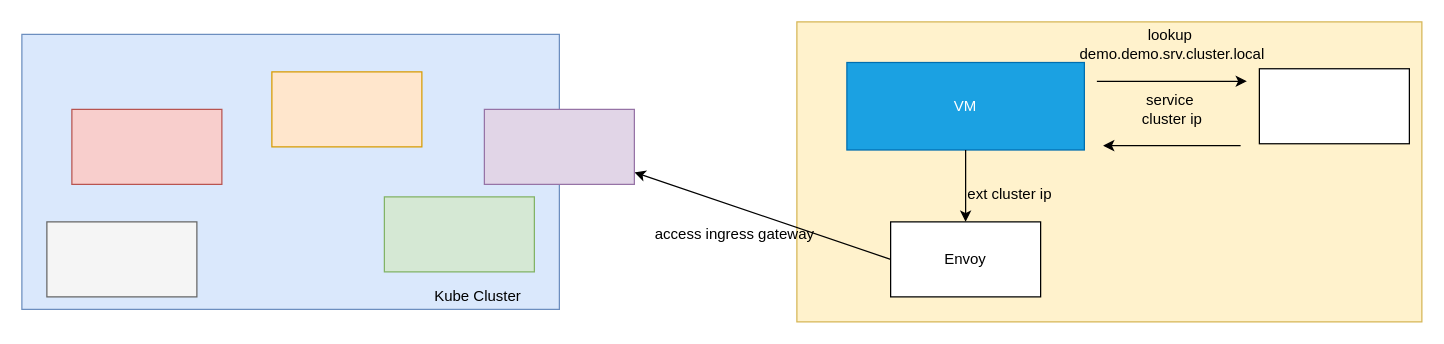
The diagram is 1444 pixels wide and 344 high, and some of its shapes have lost their labels. Each missing label, with the centre of its shape:
DNS Proxy: (x=1333, y=106)
istio ingress gateway: (x=558, y=146)
